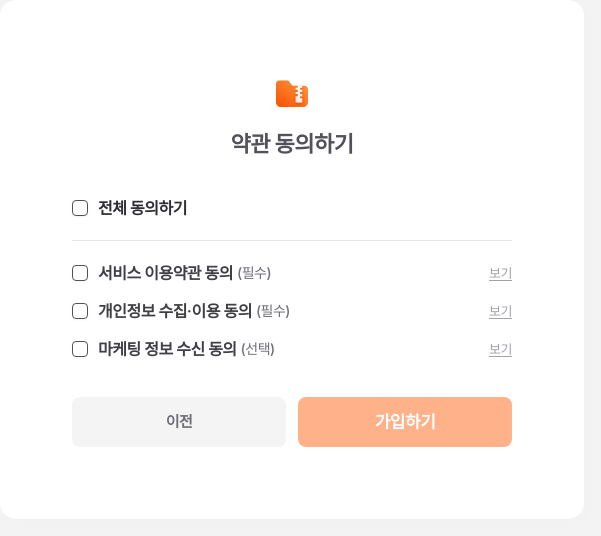
SignupTermsForm › toggles every agreement with the overall checkbox
Click the checkbox named "전체 동의하기" next to "전체 동의하기": (80, 208) [72,200,88,216]
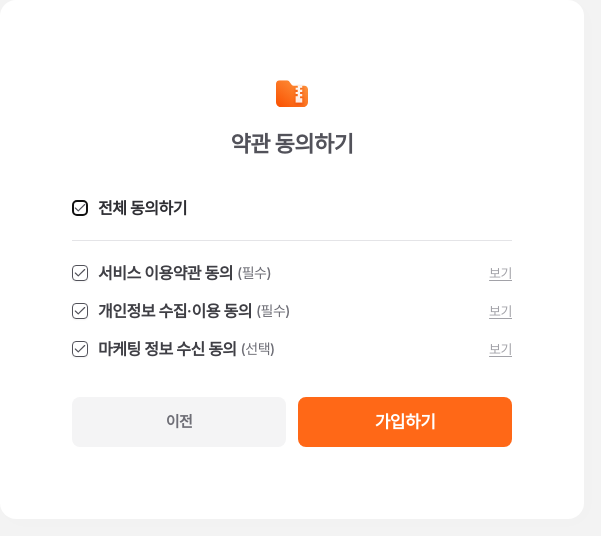
Check: the checkbox next to "전체 동의하기" is checked, box [72,200,88,216]
Check: the checkbox next to "서비스 이용약관 동의" is checked, box [72,265,88,281]
Check: the checkbox next to "개인정보 수집·이용 동의" is checked, box [72,303,88,319]
